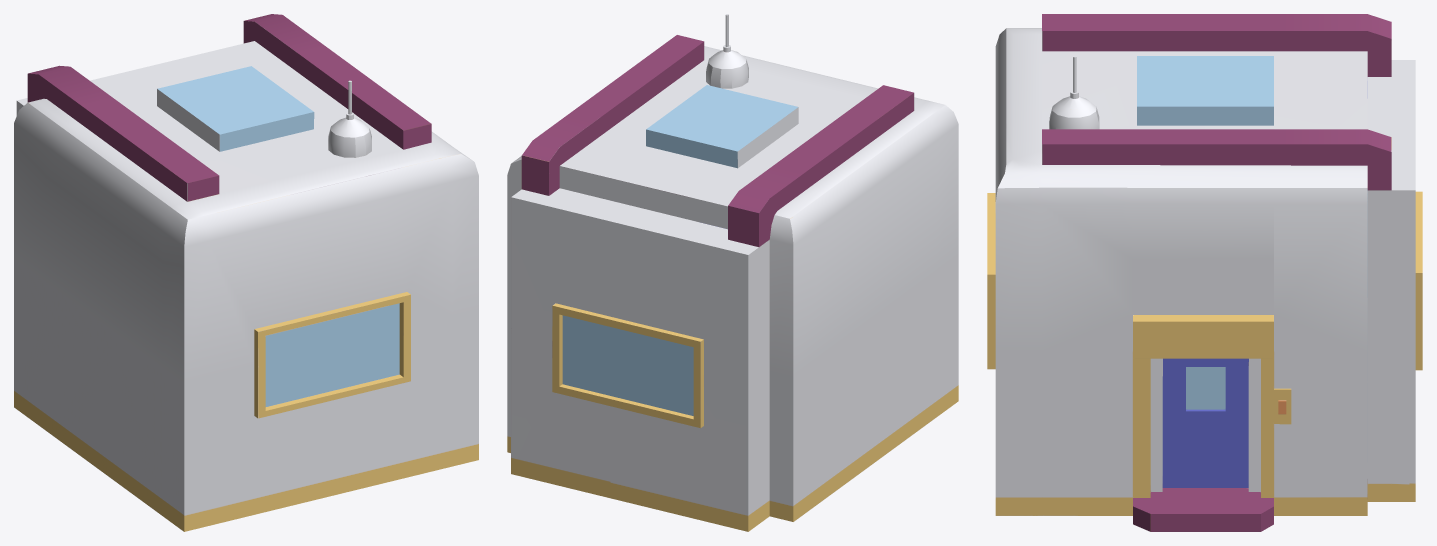
Rendered from SM_ARCH_House02.fbx.
The picture shows the model from 3 angles, left to right: view 1: azimuth 30°, elevation 25°; view 2: azimuth 150°, elevation 25°; view 3: azimuth 270°, elevation 25°; orthographic projection. The views are drawn at different scales.
Parts seen in each view (by area): view 1: m_HouseV2_low; view 2: m_HouseV2_low; view 3: m_HouseV2_low.
Part boxes in pixels (x1,y1,x2,y2): m_HouseV2_low: [14, 14, 478, 531]; m_HouseV2_low: [507, 14, 958, 531]; m_HouseV2_low: [987, 14, 1422, 531].
Size of the model in its own units: 634 by 699 by 673.
1 material, 1 textured.
